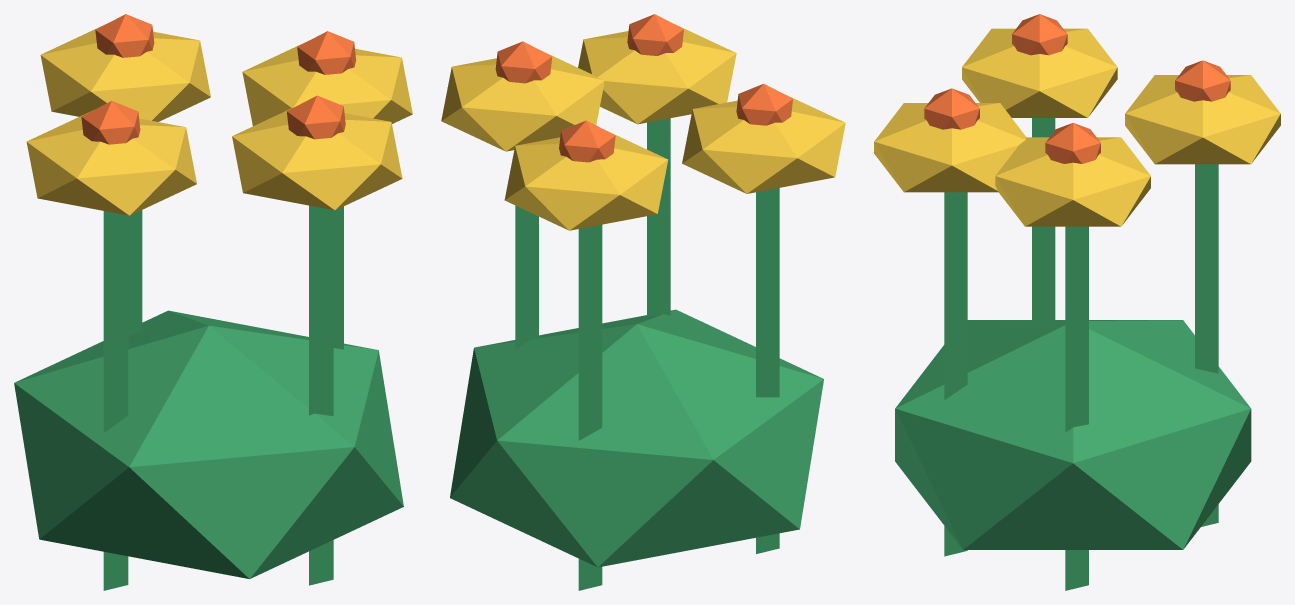
The model's file is flower_yellow.glb.
The picture shows the model from 3 angles, left to right: view 1: azimuth 30°, elevation 25°; view 2: azimuth 150°, elevation 25°; view 3: azimuth 270°, elevation 25°; orthographic projection. The views are drawn at different scales.
Parts seen in each view (by area): view 1: flower_yellow; view 2: flower_yellow; view 3: flower_yellow.
Part boxes in pixels (x1=…): flower_yellow: x1=14, y1=14, x2=412, y2=590; flower_yellow: x1=441, y1=14, x2=845, y2=590; flower_yellow: x1=874, y1=14, x2=1280, y2=590.
Size of the model in its own units: 0.3219 by 0.406 by 0.3108.
